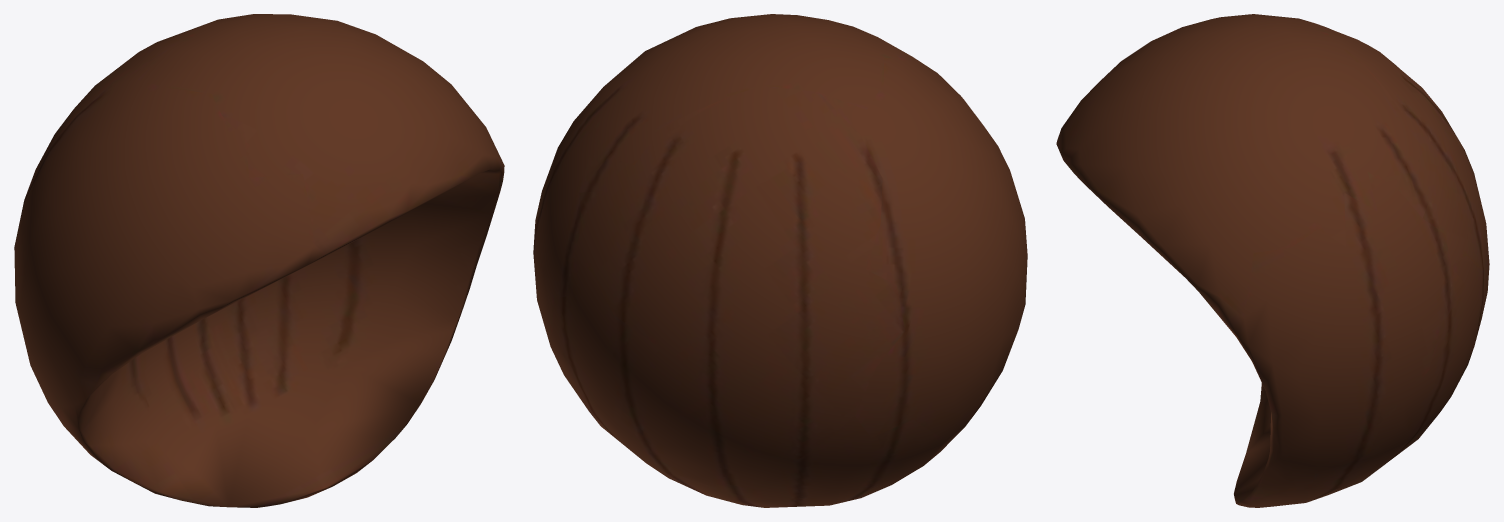
Rendered from avatar-hair-short.tucked.glb.
The picture shows the model from 3 angles, left to right: view 1: azimuth 30°, elevation 25°; view 2: azimuth 150°, elevation 25°; view 3: azimuth 270°, elevation 25°; orthographic projection. The views are drawn at different scales.
Parts seen in each view (by area): view 1: hair; view 2: hair; view 3: hair.
Part boxes in pixels (box(x1,y1,x2,y2)): hair: box(14, 14, 504, 507); hair: box(533, 14, 1027, 507); hair: box(1056, 14, 1489, 507).
Bounding box in the file's own units: 0.4192 × 0.4122 × 0.3634.
1 material, 1 textured.
